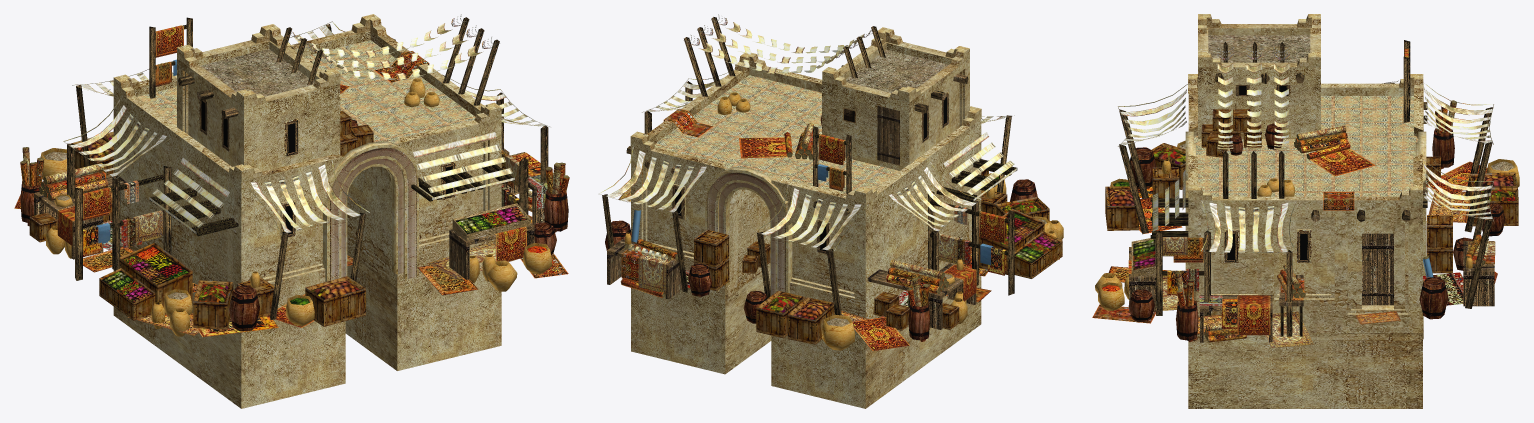
Rendered from pers_market_a.dae.
3 views of the same model, side by side, from view 1: azimuth 30°, elevation 25°; view 2: azimuth 150°, elevation 25°; view 3: azimuth 270°, elevation 25° (orthographic). The views are drawn at different scales.
Visible parts, largest first — view 1: pers_market_a; view 2: pers_market_a; view 3: pers_market_a.
Part boxes in pixels (x1=…): pers_market_a: x1=14, y1=14, x2=569, y2=408; pers_market_a: x1=599, y1=14, x2=1063, y2=408; pers_market_a: x1=1092, y1=14, x2=1519, y2=408.
Size of the model in its own units: 26.91 by 24.53 by 18.61.
